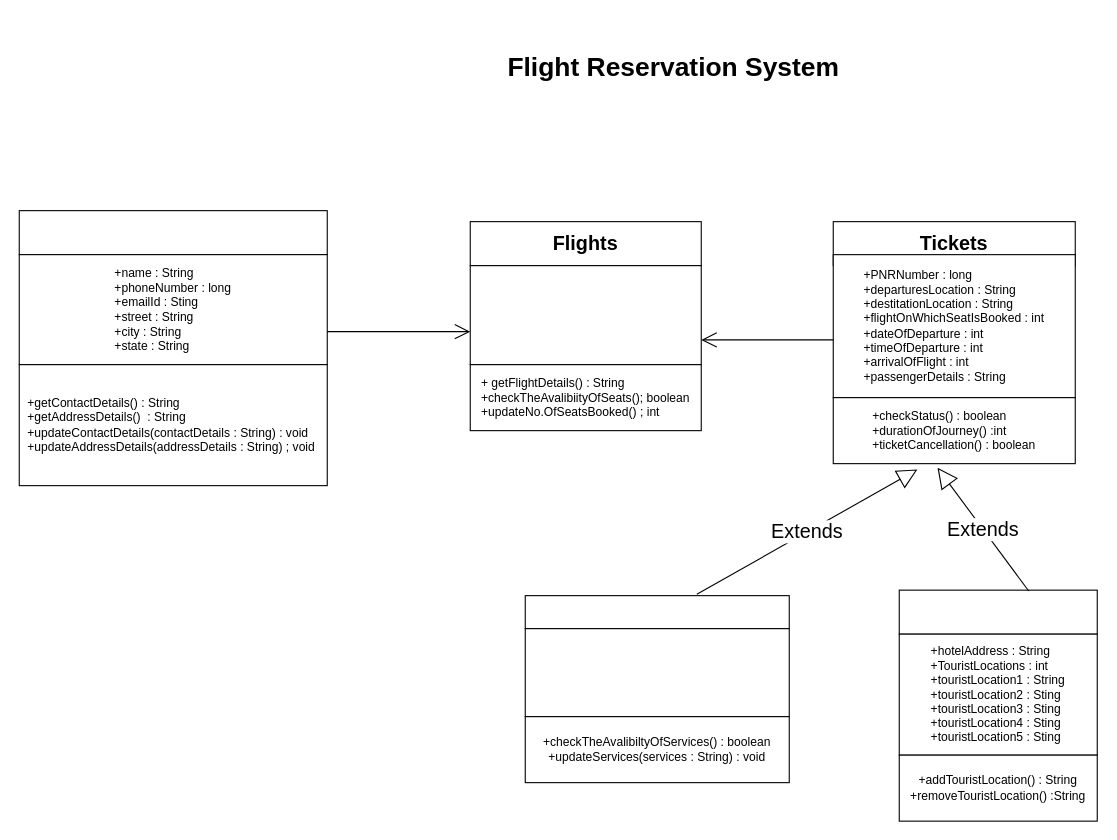
The diagram is 1117 pixels wide and 840 high, and some of its shapes have lost their labels. Here are the shapes that lost their labels. From the top down, the centre of each, then its label:
[172,232]: Passenger
[585,315]: +flightNumber :int +airlineOfFlight : int +numberOfSeats : int
[656,612]: RegularTickets
[997,611]: Tourist Ticket
[656,672]: +services :String +food : String +water : String +snacks : String
